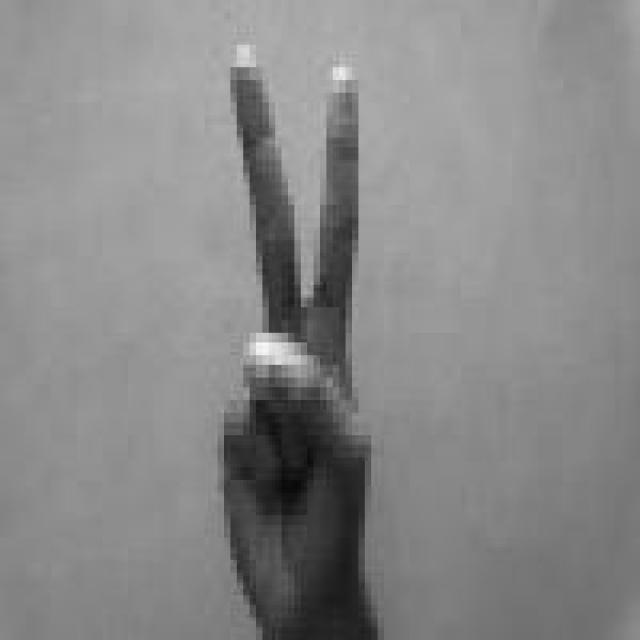V: (211, 37, 381, 629)
